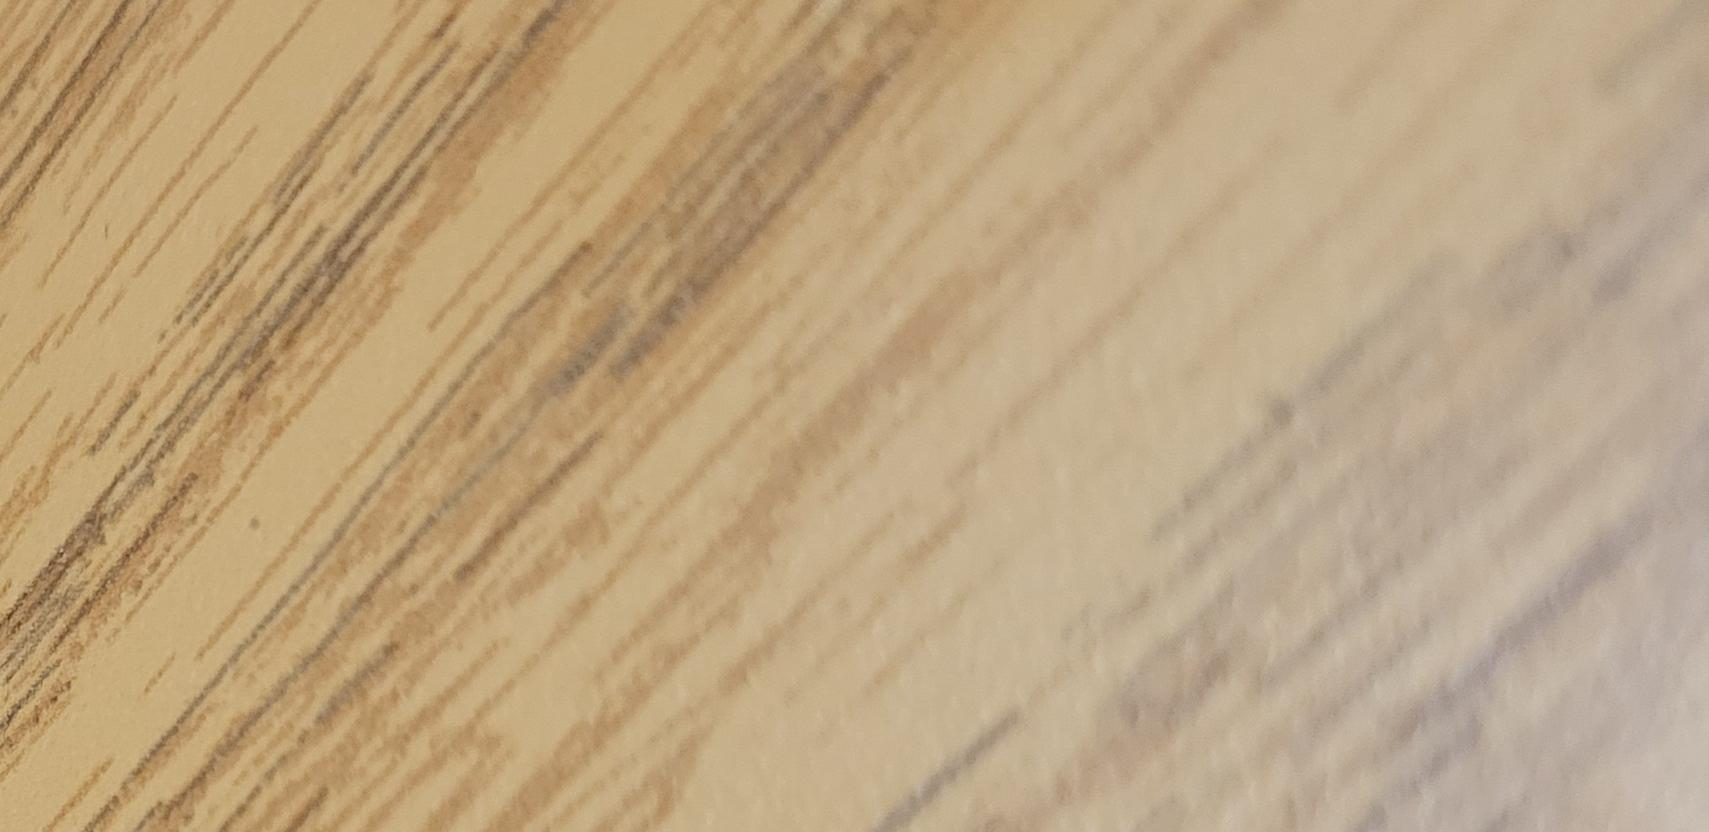Chip: (1, 189, 761, 832)
